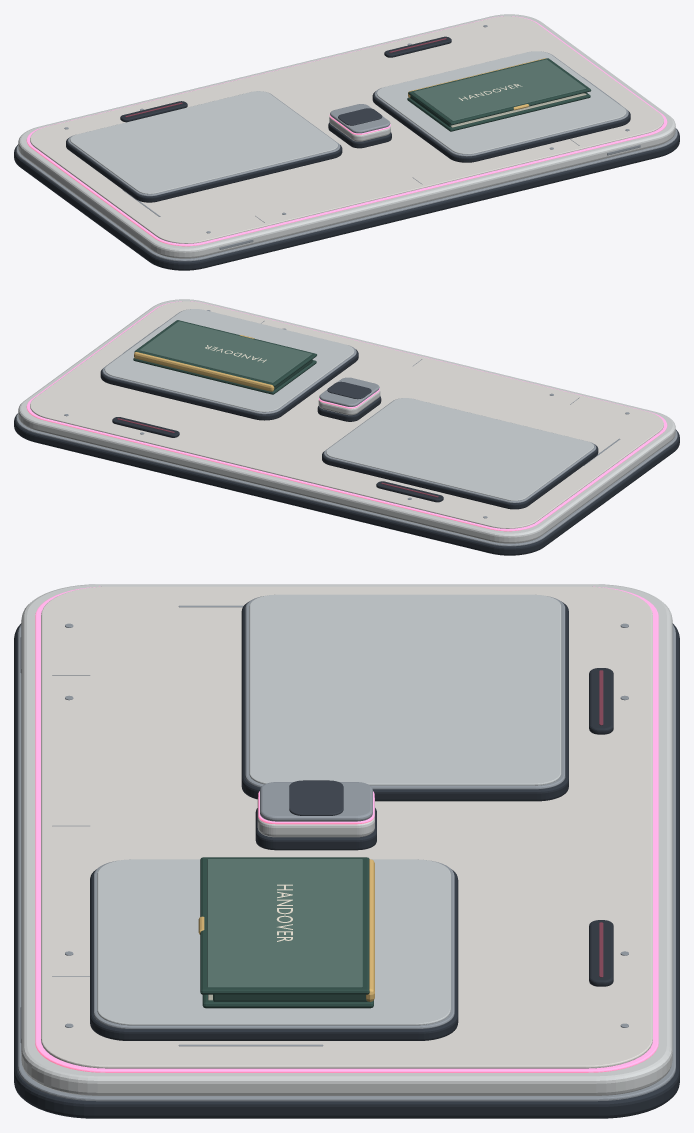
The model's file is release-desk.glb.
3 views of the same model, one above another, from view 1: azimuth 30°, elevation 25°; view 2: azimuth 150°, elevation 25°; view 3: azimuth 270°, elevation 25° (orthographic). The views are drawn at different scales.
Visible parts, largest first — view 1: Launch platform / Porcelain tile.001, Launch platform / Silk-satin pale pads.001, Launch platform / Plinth charcoal.001, Launch platform / Pearl ceramic.001, Launch platform / Satin titanium edge.001, FolioCover / Folio sage.003, Launch platform / Rose perimeter light.001, FolioCover / Ink green.003, OwnershipFolio / Ink green.003, Launch platform / Carbon inlay.001, OwnershipFolio / Warm linen.003; view 2: Launch platform / Porcelain tile.001, Launch platform / Silk-satin pale pads.001, Launch platform / Plinth charcoal.001, Launch platform / Pearl ceramic.001, FolioCover / Folio sage.003, Launch platform / Satin titanium edge.001, Launch platform / Rose perimeter light.001, OwnershipFolio / Brass binding.003, FolioCover / Ink green.003, OwnershipFolio / Ink green.003, Launch platform / Carbon inlay.001; view 3: Launch platform / Porcelain tile.001, Launch platform / Silk-satin pale pads.001, Launch platform / Pearl ceramic.001, Launch platform / Plinth charcoal.001, FolioCover / Folio sage.003, Launch platform / Satin titanium edge.001, Launch platform / Rose perimeter light.001, FolioCover / Ink green.003, OwnershipFolio / Ink green.003, Launch platform / Carbon inlay.001, OwnershipFolio / Brass binding.003.
Boxes of the visible parts, x1,y1,x2,y2 form: Launch platform / Porcelain tile.001: (30,16,663,243); Launch platform / Silk-satin pale pads.001: (70,51,626,194); Launch platform / Plinth charcoal.001: (14,36,679,270); Launch platform / Pearl ceramic.001: (18,14,675,258); Launch platform / Satin titanium edge.001: (16,25,677,261); FolioCover / Folio sage.003: (413,59,585,120); Launch platform / Rose perimeter light.001: (26,16,667,246); FolioCover / Ink green.003: (408,58,591,125); OwnershipFolio / Ink green.003: (407,92,590,131); Launch platform / Carbon inlay.001: (338,108,382,125); OwnershipFolio / Warm linen.003: (451,93,586,127); Launch platform / Porcelain tile.001: (30,301,663,528); Launch platform / Silk-satin pale pads.001: (104,309,593,500); Launch platform / Plinth charcoal.001: (14,349,679,555); Launch platform / Pearl ceramic.001: (18,299,675,543); FolioCover / Folio sage.003: (139,321,311,382); Launch platform / Satin titanium edge.001: (16,309,677,546); Launch platform / Rose perimeter light.001: (26,301,667,531); OwnershipFolio / Brass binding.003: (134,352,274,391); FolioCover / Ink green.003: (134,320,316,386); OwnershipFolio / Ink green.003: (133,358,316,394); Launch platform / Carbon inlay.001: (327,381,371,399); Launch platform / Porcelain tile.001: (41,586,652,1068); Launch platform / Silk-satin pale pads.001: (97,594,561,1025); Launch platform / Pearl ceramic.001: (21,584,672,1095); Launch platform / Plinth charcoal.001: (14,601,679,1118); FolioCover / Folio sage.003: (207,859,362,987); Launch platform / Satin titanium edge.001: (18,596,675,1101); Launch platform / Rose perimeter light.001: (35,586,658,1072); FolioCover / Ink green.003: (200,857,369,994); OwnershipFolio / Ink green.003: (202,994,373,1008); Launch platform / Carbon inlay.001: (289,780,343,815); OwnershipFolio / Brass binding.003: (366,859,374,1001).
Bounding box in the file's own units: 33.4 × 2.42 × 18.72.
